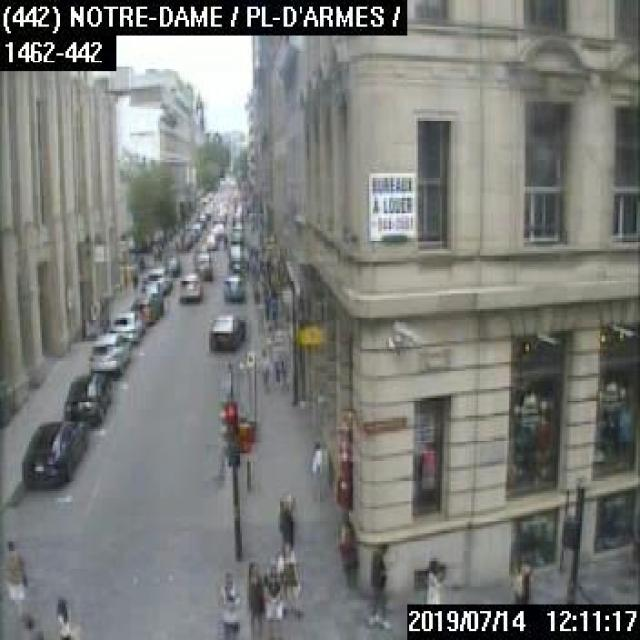pedestrian: (0, 533, 27, 615), (213, 568, 244, 638), (368, 542, 386, 627), (244, 560, 263, 637), (334, 506, 352, 586), (263, 560, 281, 638), (282, 544, 301, 614), (275, 490, 294, 560), (422, 556, 440, 602), (54, 596, 71, 638), (304, 440, 321, 478), (511, 562, 527, 602), (272, 348, 286, 389), (255, 346, 268, 389), (18, 613, 40, 638), (247, 269, 258, 298), (98, 307, 109, 331), (129, 266, 138, 286), (150, 242, 156, 263), (156, 243, 161, 263)
vehicle: (18, 416, 89, 484), (62, 369, 114, 424), (90, 331, 127, 372), (206, 311, 243, 351), (111, 309, 147, 343), (129, 289, 164, 322), (140, 278, 162, 314), (176, 273, 203, 302), (142, 265, 170, 292), (220, 272, 243, 301), (192, 251, 214, 277), (163, 251, 179, 275)
